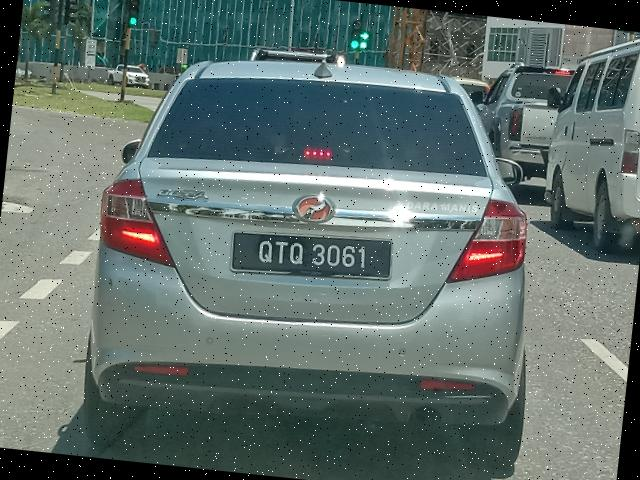License_Plate: (231, 223, 396, 290)
car: (72, 40, 552, 480)
